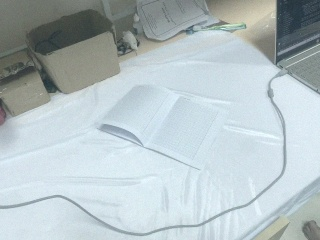box: (25, 8, 121, 95), (1, 49, 50, 117)
